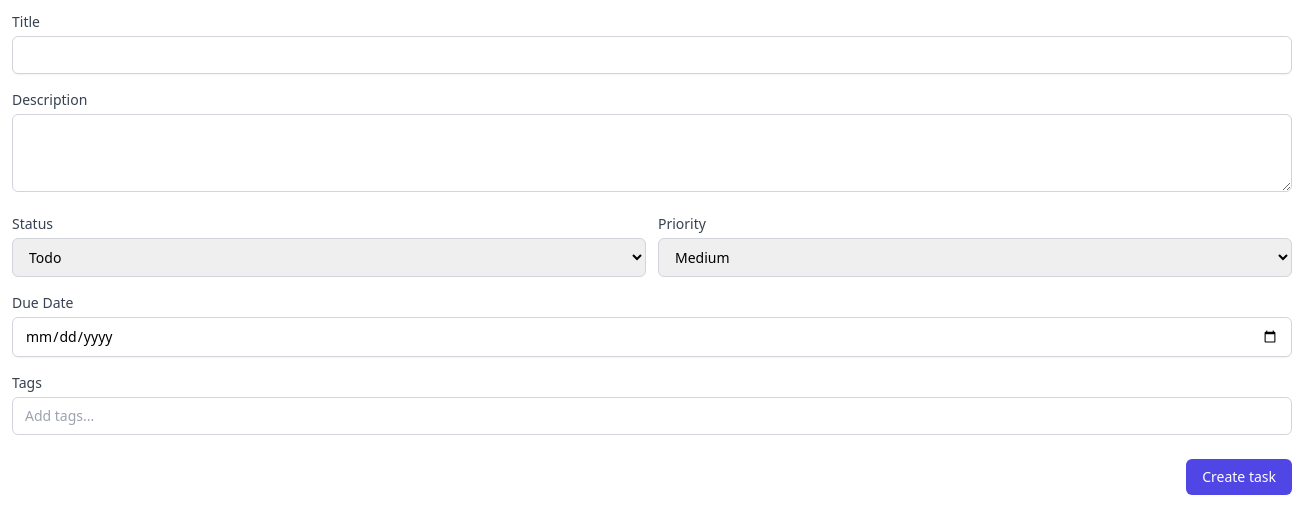
Scenario: TaskForm › shows Create option when tag does not exist
Type "newone" into the field with placeholder "Add tags...". click: (652, 416)
box: [12,397,1292,435]
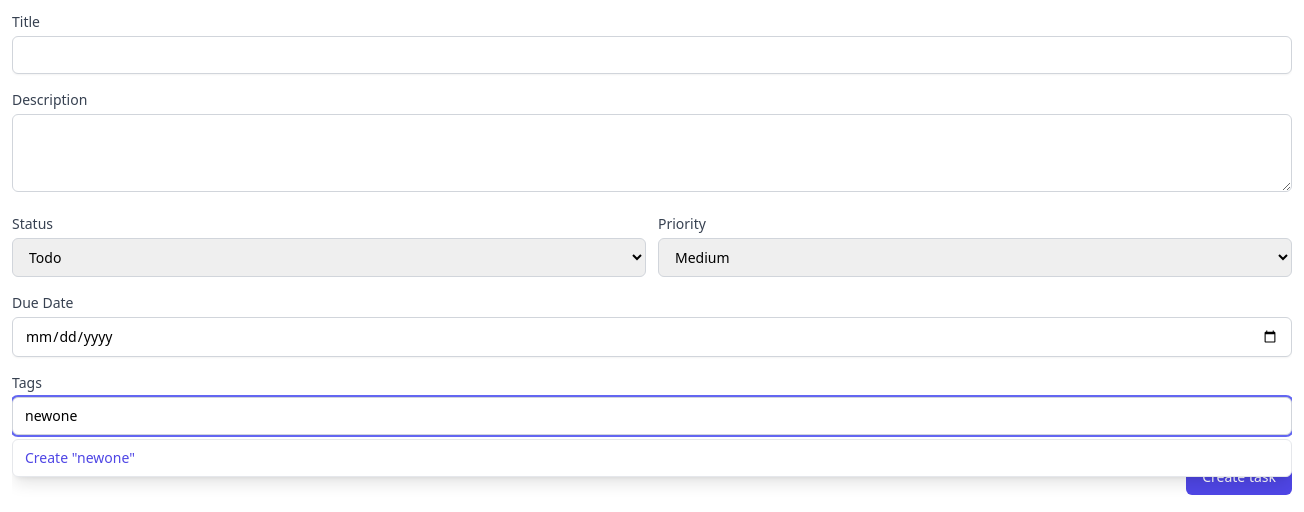
Result: the button "Create \"newone\"" is shown at [13,440,1291,476]
